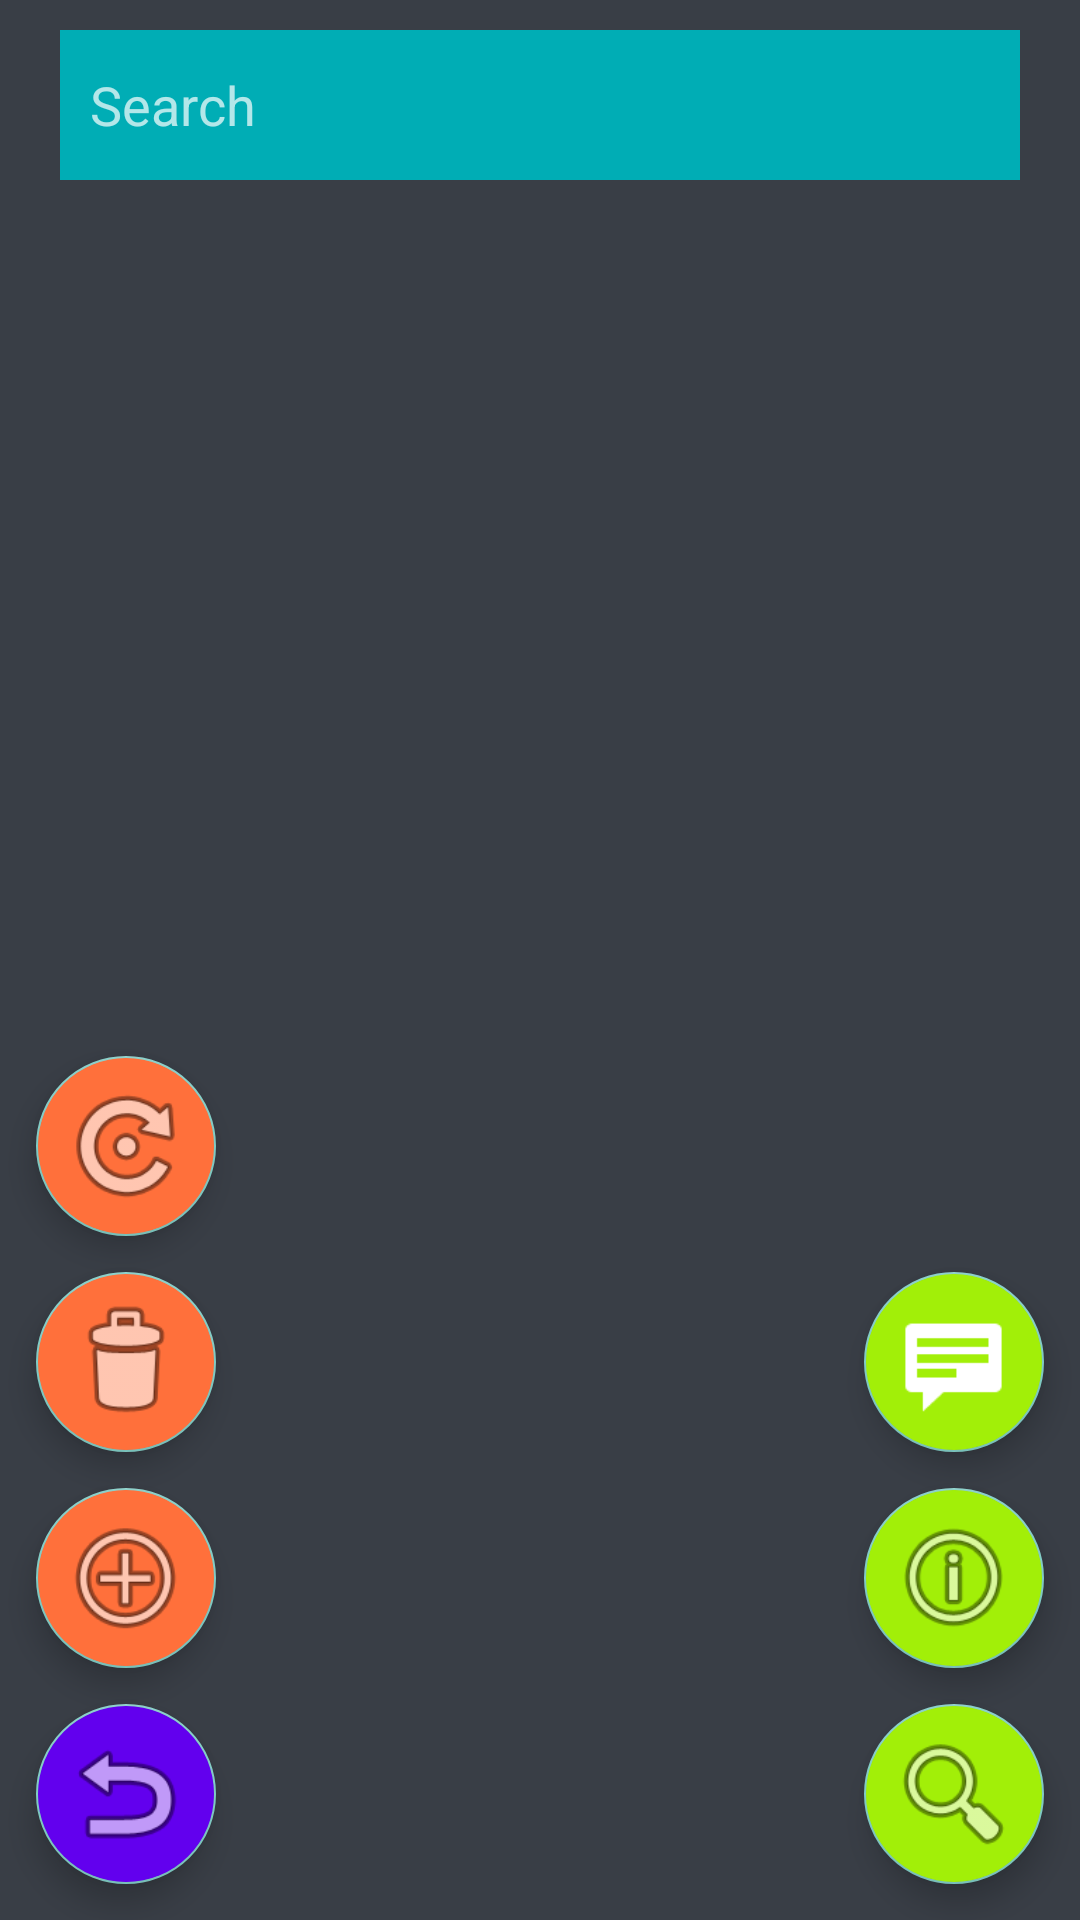

Screen size 1080x1920. Icon name, then its box in pixels as [x1,y1,x2,y2]:
add: [36,1488,216,1668]
delete: [36,1272,216,1452]
Filter Fragment Button: [864,1704,1044,1884]
Id Fragment Button: [864,1488,1044,1668]
Log Fragment Button: [864,1272,1044,1452]
revert: [36,1704,216,1884]
rotate: [36,1056,216,1236]
